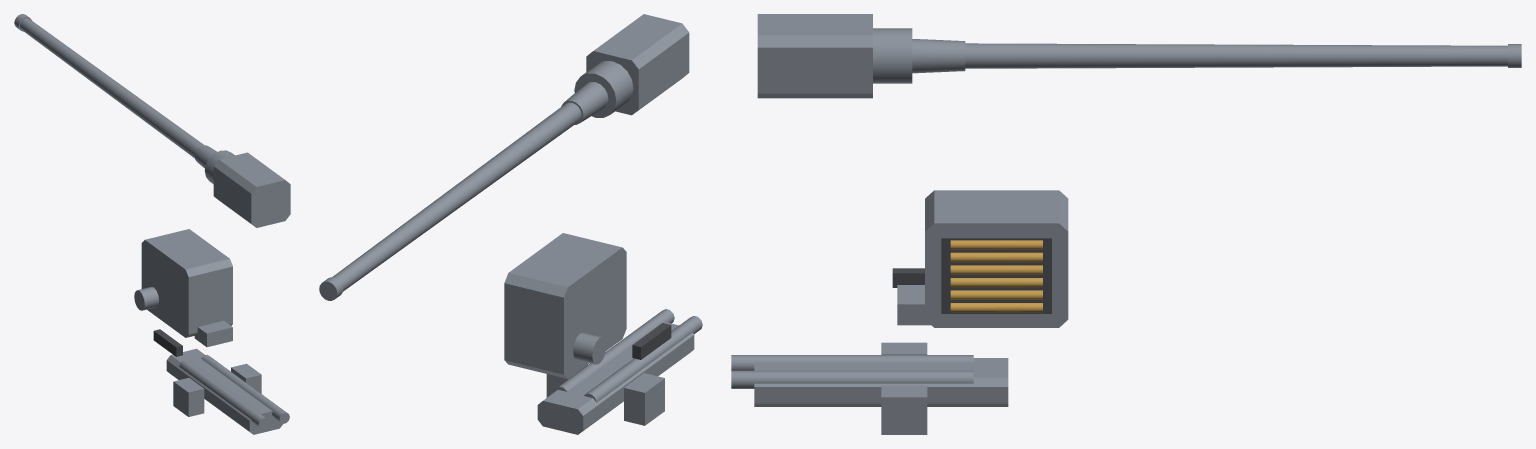
The model's file is molins_6pdr.obj.
3 views of the same model, side by side, from view 1: azimuth 30°, elevation 25°; view 2: azimuth 150°, elevation 25°; view 3: azimuth 270°, elevation 25° (orthographic). The views are drawn at different scales.
Parts seen in each view (by area): view 1: turret_0, barrel_0, turret_1; view 2: turret_0, barrel_0, turret_1; view 3: turret_0, barrel_0, turret_2, turret_1.
Part boxes in pixels (x1,y1,x2,y2): turret_0: [134, 229, 289, 434]; barrel_0: [14, 14, 290, 227]; turret_1: [153, 329, 182, 356]; turret_0: [504, 233, 702, 434]; barrel_0: [319, 14, 689, 300]; turret_1: [632, 323, 671, 359]; turret_0: [731, 190, 1068, 434]; barrel_0: [757, 14, 1521, 98]; turret_2: [950, 240, 1042, 312]; turret_1: [892, 238, 1051, 313].
Bounding box in the file's own units: 0.625 × 1.85 × 3.42.
